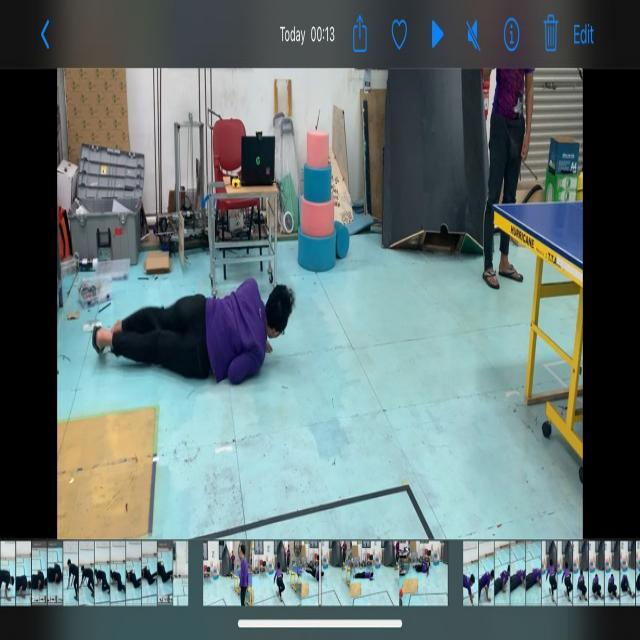Fall-Detected: (89, 252, 302, 418)
